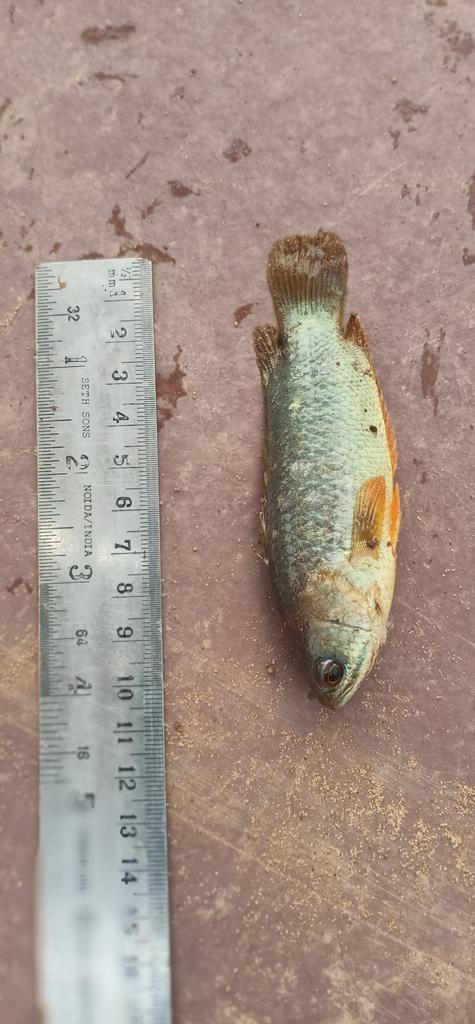Climbing Perch: (253, 228, 408, 715)
